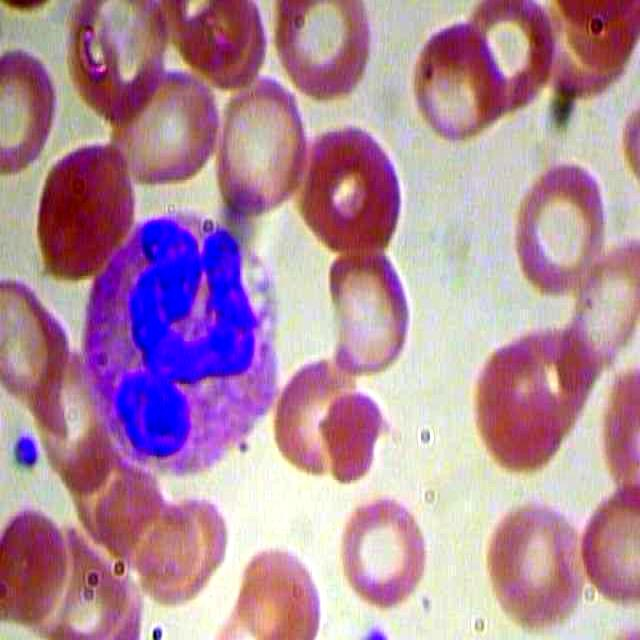Platelets: (9, 431, 43, 469)
RBC: (292, 116, 407, 259), (30, 139, 145, 281), (108, 68, 226, 197), (509, 157, 612, 300), (408, 12, 511, 155), (484, 487, 587, 629), (213, 74, 311, 214), (328, 232, 419, 376), (270, 340, 361, 484), (332, 487, 436, 612), (229, 530, 327, 640), (274, 1, 374, 103), (1, 509, 74, 632), (1, 39, 62, 177), (321, 388, 390, 491)
WBC: (77, 205, 281, 476)
